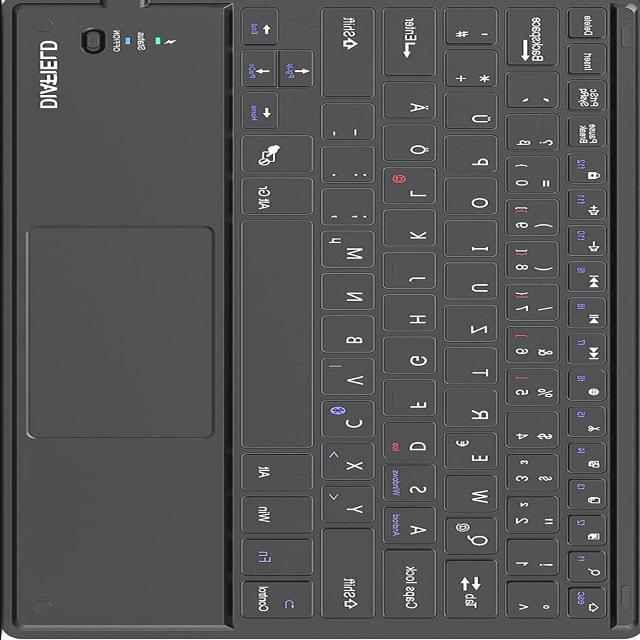0: (506, 157, 564, 197)
1: (508, 540, 564, 579)
2: (507, 496, 564, 537)
3: (506, 454, 564, 495)
4: (508, 413, 564, 452)
5: (506, 370, 564, 410)
6: (507, 328, 565, 368)
7: (506, 285, 564, 325)
8: (507, 242, 564, 282)
9: (507, 200, 564, 240)
a: (384, 507, 442, 548)
accent: (509, 73, 565, 111)
ae: (385, 83, 442, 123)
alt-left: (242, 453, 320, 494)
altgr-right: (241, 178, 320, 218)
b: (323, 316, 380, 357)
c: (323, 401, 379, 442)
caret: (508, 584, 564, 622)
comma: (324, 189, 380, 229)
d: (384, 423, 441, 463)
del: (509, 7, 566, 69)
e: (446, 433, 502, 474)
enter: (385, 7, 442, 80)
f: (385, 380, 442, 420)
g: (386, 338, 442, 378)
h: (386, 296, 442, 336)
hash: (447, 9, 503, 47)
i: (447, 222, 503, 260)
j: (385, 254, 442, 292)
k: (385, 211, 442, 249)
keyboard: (223, 0, 640, 640)
l: (384, 168, 441, 207)
m: (323, 232, 380, 273)
minus: (324, 104, 380, 144)
n: (324, 274, 380, 314)
o: (447, 179, 503, 219)
oe: (385, 126, 441, 166)
p: (447, 136, 503, 176)
plus: (447, 51, 503, 91)
point: (324, 147, 379, 187)
q: (446, 518, 502, 559)
r: (447, 391, 503, 431)
s: (384, 465, 441, 505)
shift-left: (323, 528, 381, 622)
shift-lock: (385, 550, 443, 623)
shift-right: (323, 7, 381, 101)
space: (241, 220, 320, 452)
ss: (507, 115, 564, 155)
strg-left: (241, 582, 320, 623)
t: (447, 349, 503, 387)
tab: (446, 560, 502, 623)
u: (446, 264, 503, 304)
ue: (446, 94, 503, 134)
v: (323, 359, 380, 399)
w: (447, 476, 503, 515)
x: (324, 444, 380, 484)
y: (324, 486, 380, 526)
z: (447, 306, 503, 346)
